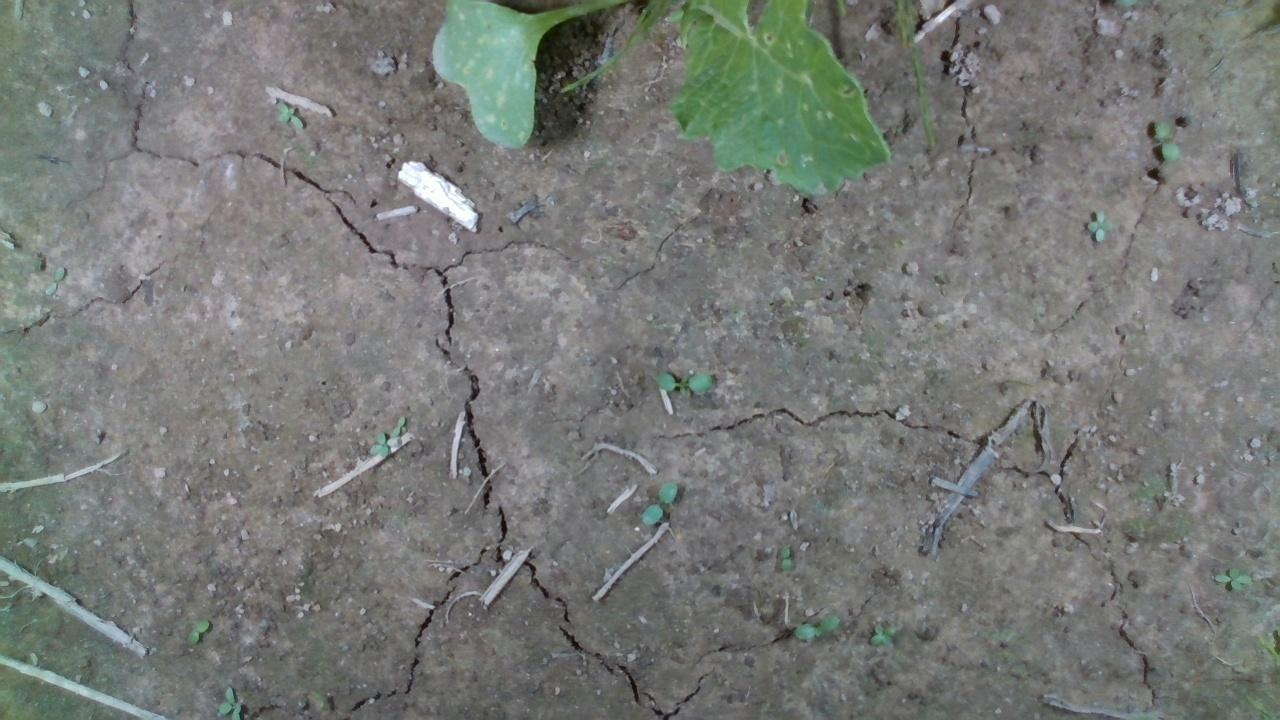weed: (637, 478, 678, 526)
